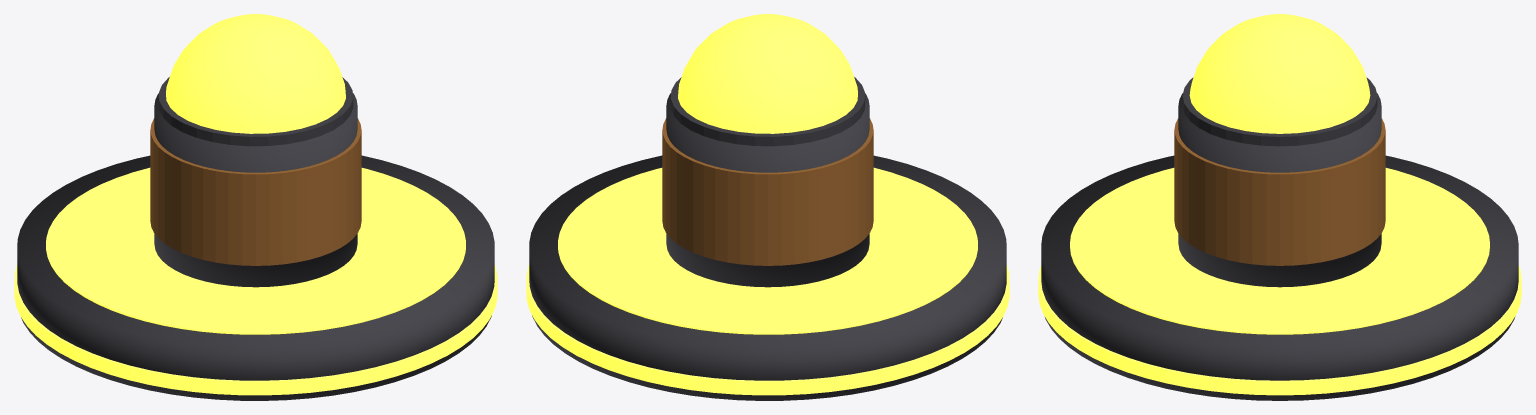
File: rebatedor_neo_basketball_p1.glb
3 views of the same model, side by side, from view 1: azimuth 30°, elevation 25°; view 2: azimuth 150°, elevation 25°; view 3: azimuth 270°, elevation 25° (orthographic).
Parts seen in each view (by area): view 1: Cylinder.002, Cylinder, Cylinder.004, Sphere, Cylinder.003, Cylinder.001, Cylinder.005; view 2: Cylinder.002, Cylinder, Cylinder.004, Sphere, Cylinder.003, Cylinder.001, Cylinder.005; view 3: Cylinder.002, Cylinder, Cylinder.004, Sphere, Cylinder.003, Cylinder.001, Cylinder.005.
Boxes of the visible parts, x1,y1,x2,y2 form: Cylinder.002: (46, 167, 465, 334); Cylinder: (17, 155, 494, 400); Cylinder.004: (150, 118, 361, 265); Sphere: (166, 14, 345, 133); Cylinder.003: (154, 93, 357, 287); Cylinder.001: (14, 264, 497, 395); Cylinder.005: (158, 77, 353, 146); Cylinder.002: (558, 167, 977, 334); Cylinder: (529, 155, 1006, 400); Cylinder.004: (662, 118, 873, 265); Sphere: (678, 14, 857, 133); Cylinder.003: (666, 93, 869, 287); Cylinder.001: (526, 264, 1009, 395); Cylinder.005: (670, 77, 865, 146); Cylinder.002: (1070, 168, 1489, 334); Cylinder: (1041, 155, 1518, 400); Cylinder.004: (1174, 118, 1385, 265); Sphere: (1189, 14, 1370, 133); Cylinder.003: (1178, 93, 1381, 287); Cylinder.001: (1038, 265, 1521, 395); Cylinder.005: (1182, 77, 1377, 146).
Size of the model in its own units: 0.1619 by 0.1032 by 0.1619.
